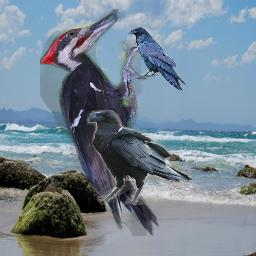Crow: (86, 110, 192, 205), (127, 26, 186, 90)
Woodpecker: (40, 9, 159, 236)
